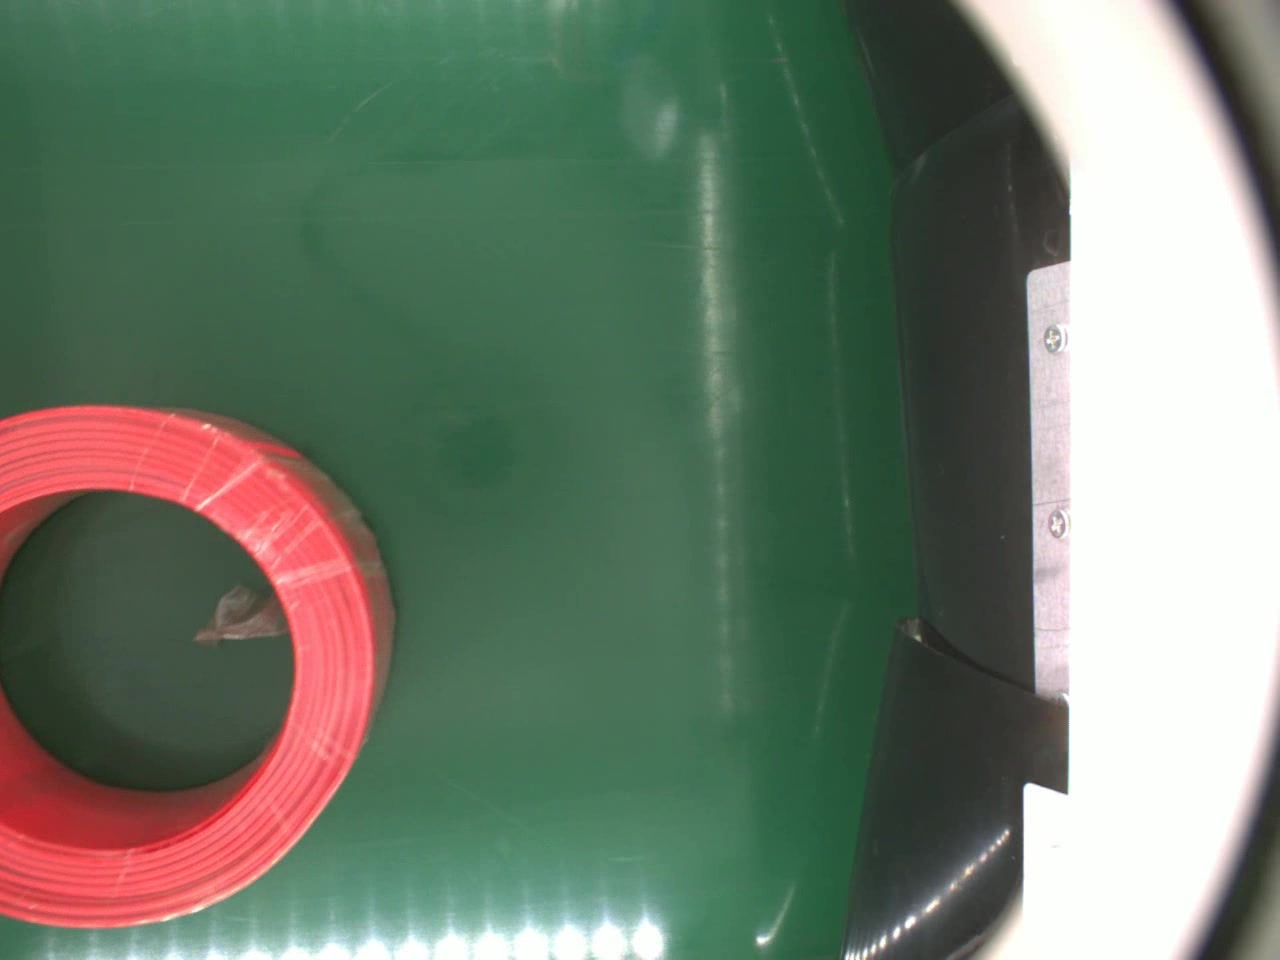red: (0, 399, 392, 931)
